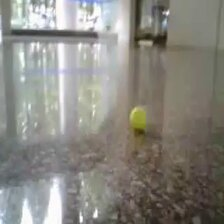tennis: (129, 106, 147, 127)
